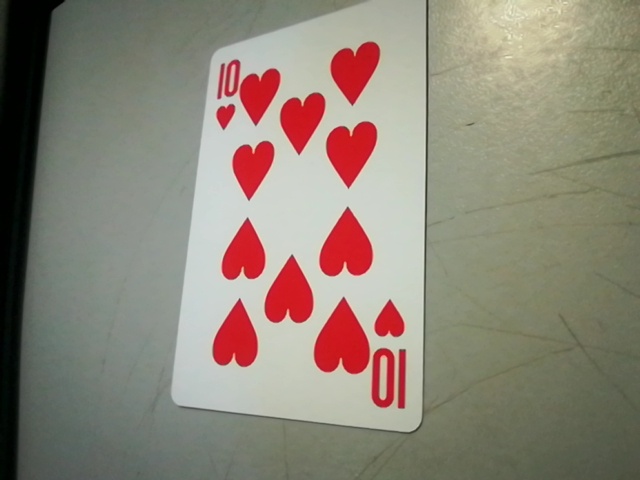hx 10: (369, 299, 421, 418)
